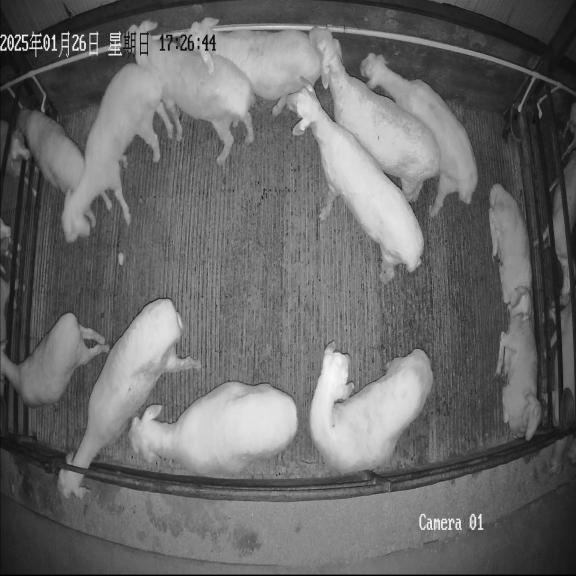drinking: (16, 108, 84, 193)
eating: (58, 298, 201, 498)
lying: (489, 184, 532, 323), (496, 310, 541, 440)
stand: (288, 85, 423, 282), (309, 27, 440, 202), (360, 53, 477, 216), (124, 20, 255, 164), (62, 64, 163, 242), (309, 343, 433, 474), (128, 381, 298, 476), (186, 18, 321, 115), (0, 313, 109, 408)
